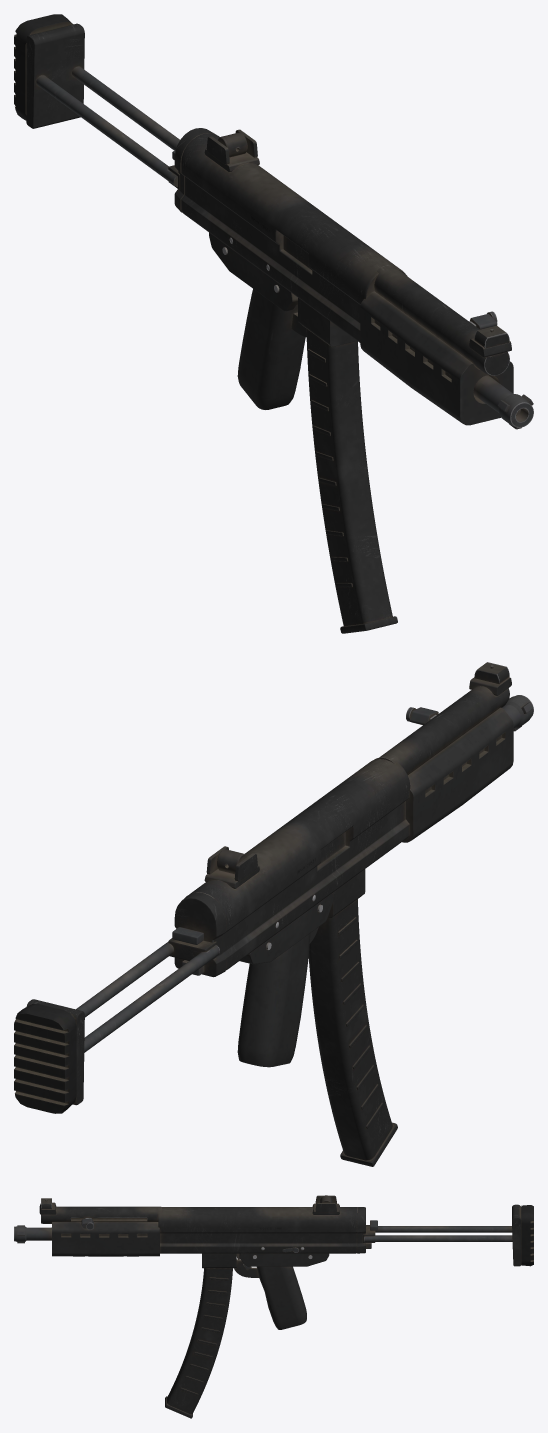
The model's file is smg.glb.
The picture shows the model from 3 angles, top to bottom: view 1: azimuth 30°, elevation 25°; view 2: azimuth 150°, elevation 25°; view 3: azimuth 270°, elevation 25°; orthographic projection. The views are drawn at different scales.
Visible parts, largest first — view 1: mesh_body, mesh_mag; view 2: mesh_body, mesh_mag; view 3: mesh_body, mesh_mag.
Boxes of the visible parts, bbox=[...] form: mesh_body: bbox=[14, 14, 533, 429]; mesh_mag: bbox=[306, 328, 397, 633]; mesh_body: bbox=[14, 662, 533, 1113]; mesh_mag: bbox=[308, 899, 397, 1166]; mesh_body: bbox=[14, 1195, 533, 1329]; mesh_mag: bbox=[165, 1268, 232, 1418].
Bounding box in the file's own units: 0.0555 × 0.3019 × 0.656.
Materials: 6 (6 with a texture image).
